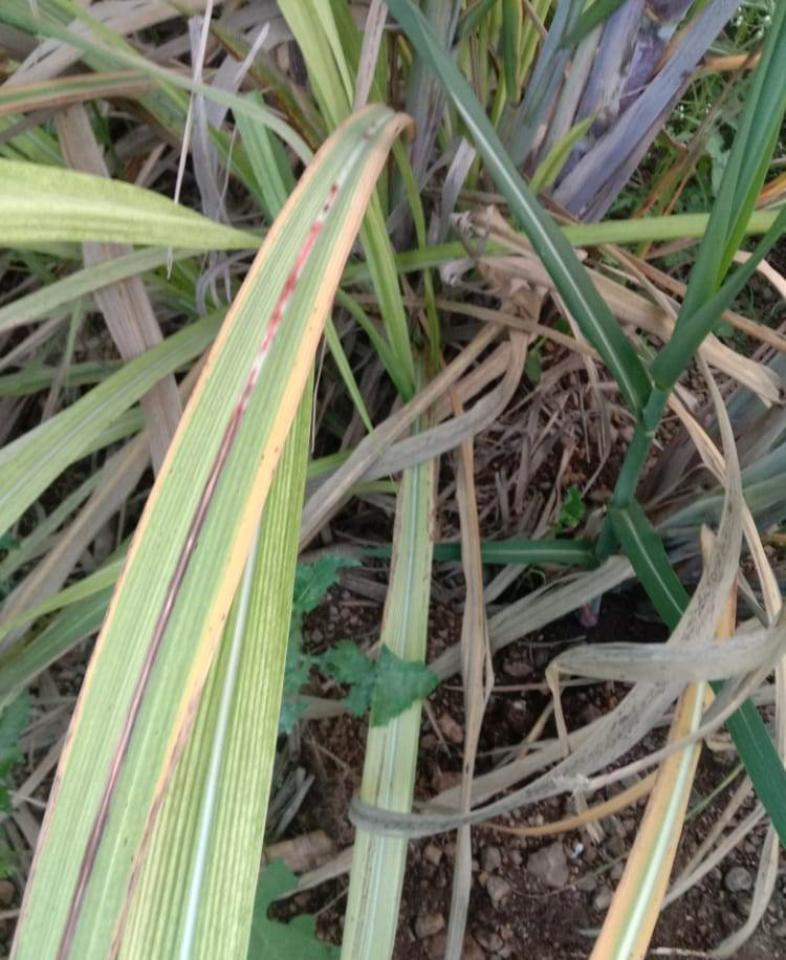RedRot: (55, 181, 341, 959)
Yellow: (54, 102, 382, 778), (151, 112, 417, 803)
